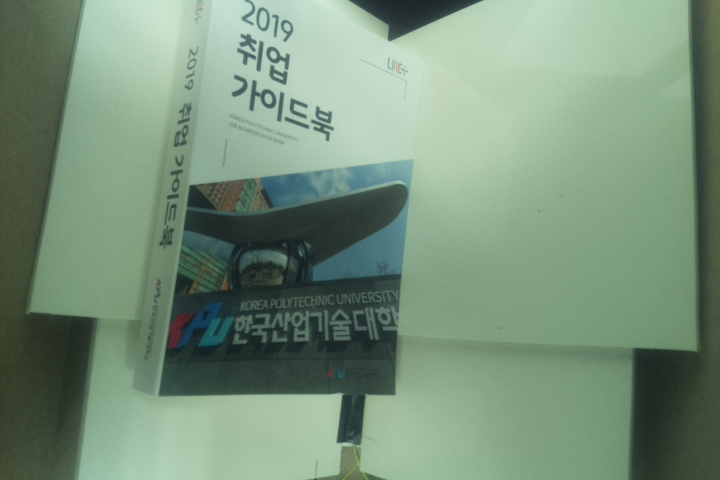book: (127, 1, 430, 399)
